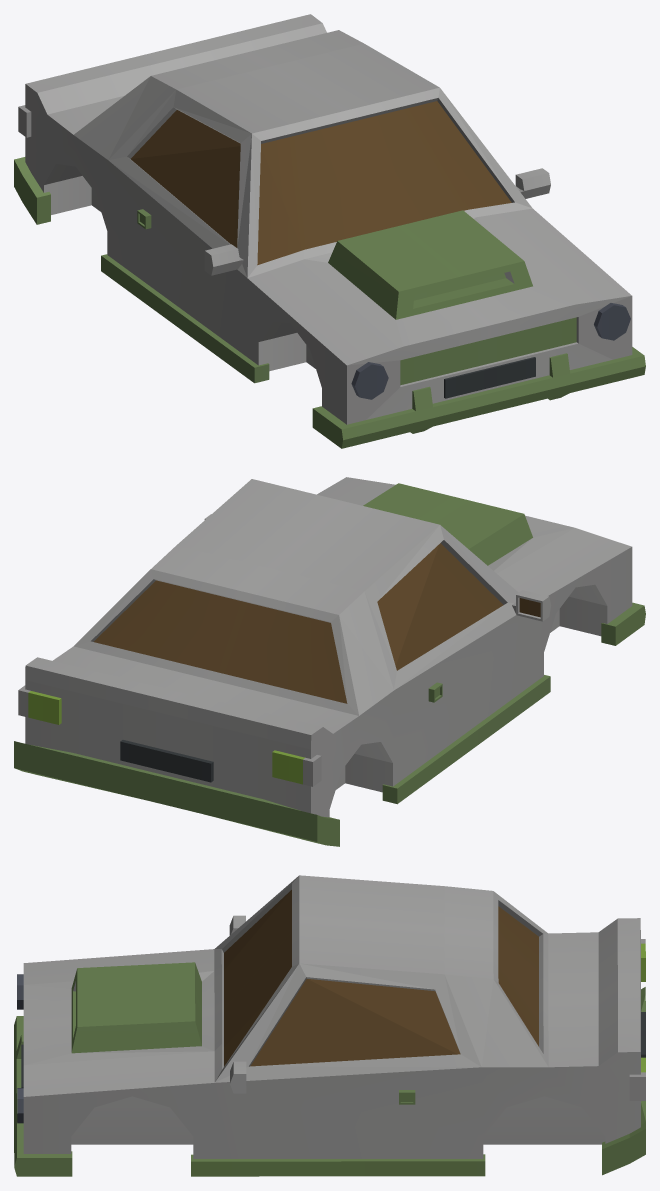
File: Car_07.fbx
3 renders of one model, top to bottom at view 1: azimuth 30°, elevation 25°; view 2: azimuth 150°, elevation 25°; view 3: azimuth 270°, elevation 25°, orthographic. The views are drawn at different scales.
Visible parts, largest first — view 1: Car_07; view 2: Car_07; view 3: Car_07.
Boxes of the visible parts, bbox=[...] form: Car_07: bbox=[14, 14, 645, 448]; Car_07: bbox=[14, 477, 645, 846]; Car_07: bbox=[14, 875, 645, 1176].
Size of the model in its own units: 1.9 by 1.09 by 3.2.
